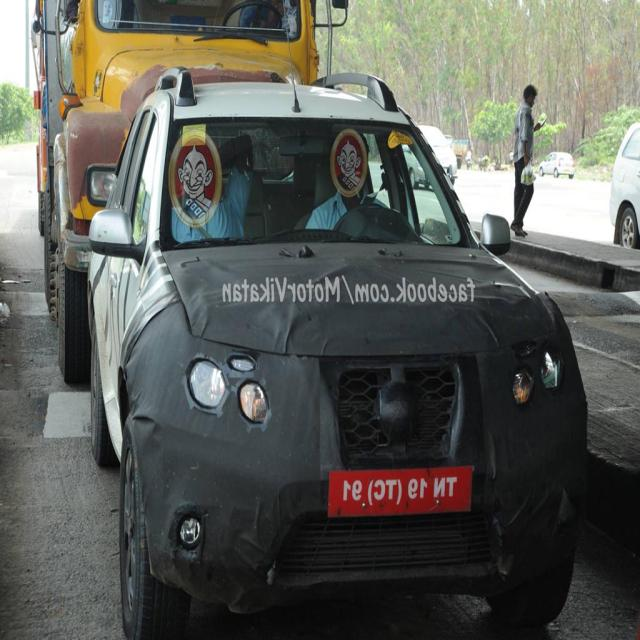number-plate: (315, 446, 488, 536)
